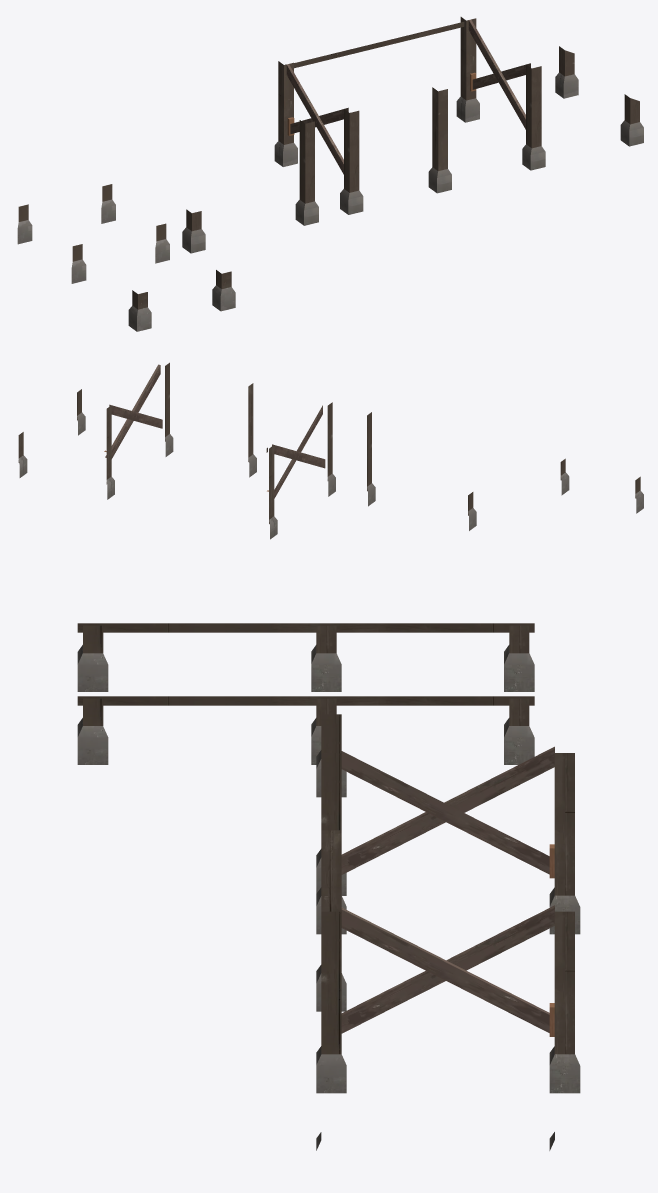
3 views of the same model, one above another, from view 1: azimuth 30°, elevation 25°; view 2: azimuth 150°, elevation 25°; view 3: azimuth 270°, elevation 25° (orthographic). The views are drawn at different scales.
Visible parts, largest first — view 1: body0_model0_lod0_mesh0, body0_model0_lod0_mesh1, body0_model0_lod0_mesh2; view 2: body0_model0_lod0_mesh0, body0_model0_lod0_mesh2, body0_model0_lod0_mesh1; view 3: body0_model0_lod0_mesh0, body0_model0_lod0_mesh2, body0_model0_lod0_mesh1.
Part boxes in pixels (x1,y1,x2,y2): body0_model0_lod0_mesh0: [18, 17, 639, 309]; body0_model0_lod0_mesh1: [17, 72, 643, 331]; body0_model0_lod0_mesh2: [286, 19, 530, 174]; body0_model0_lod0_mesh0: [18, 362, 640, 523]; body0_model0_lod0_mesh2: [105, 364, 325, 498]; body0_model0_lod0_mesh1: [18, 412, 643, 539]; body0_model0_lod0_mesh0: [77, 623, 574, 1054]; body0_model0_lod0_mesh2: [341, 746, 554, 1033]; body0_model0_lod0_mesh1: [77, 645, 580, 1150].
Size of the model in its own units: 932 by 156 by 396.
4 materials, 4 textured.
